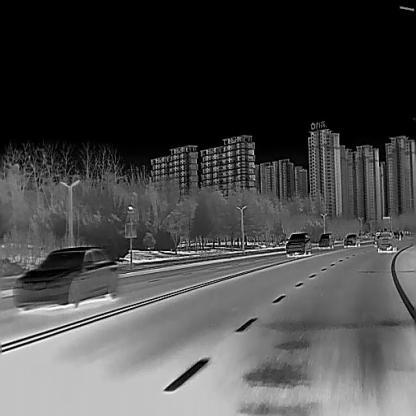car: (15, 245, 119, 309), (285, 232, 311, 256), (376, 231, 397, 253), (318, 233, 334, 249), (344, 233, 360, 247), (373, 231, 380, 245)
